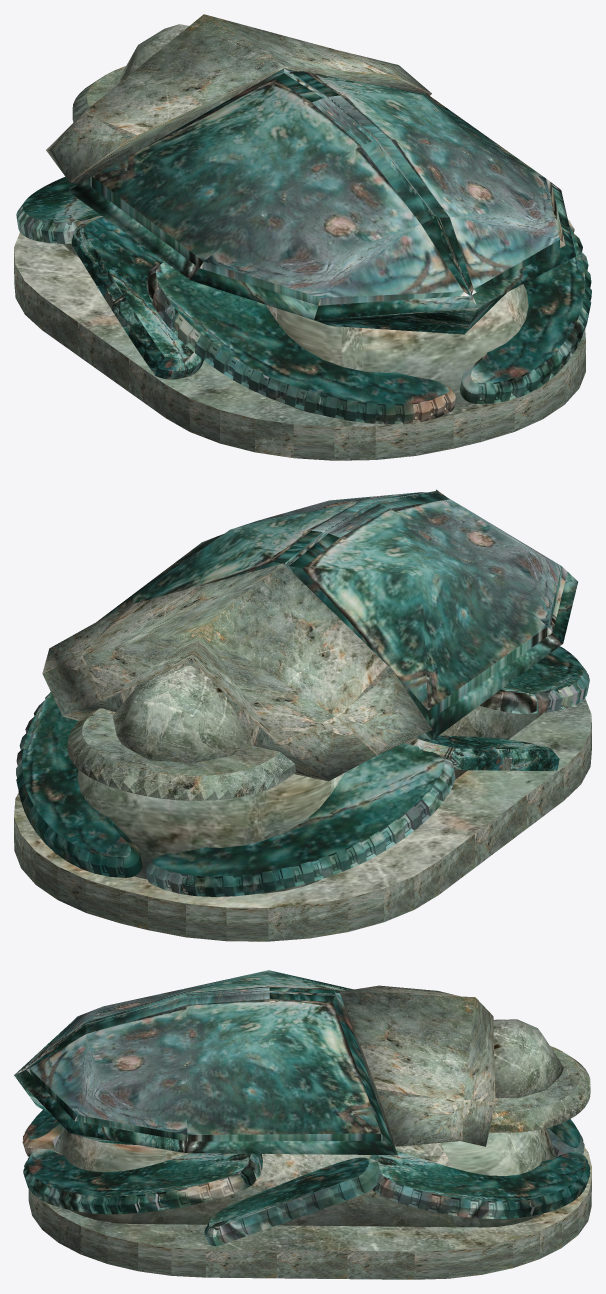
Rendered from scarabee_version_final.glb.
3 views of the same model, one above another, from view 1: azimuth 30°, elevation 25°; view 2: azimuth 150°, elevation 25°; view 3: azimuth 270°, elevation 25° (orthographic). The views are drawn at different scales.
Parts seen in each view (by area): view 1: Point.008; view 2: Point.008; view 3: Point.008.
Part boxes in pixels (x1,y1,x2,y2): Point.008: (14, 14, 591, 460); Point.008: (14, 489, 591, 941); Point.008: (14, 970, 591, 1279).
Bounding box in the file's own units: 5.88 × 3.5 × 8.69.
4 materials, 4 textured.
